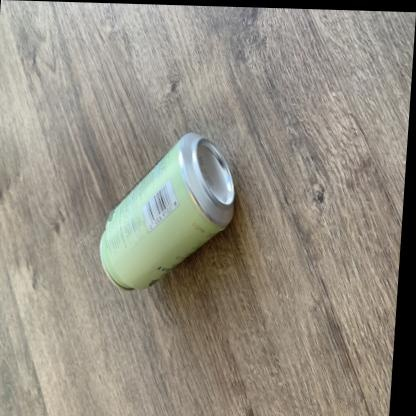trash: (100, 133, 234, 288)
